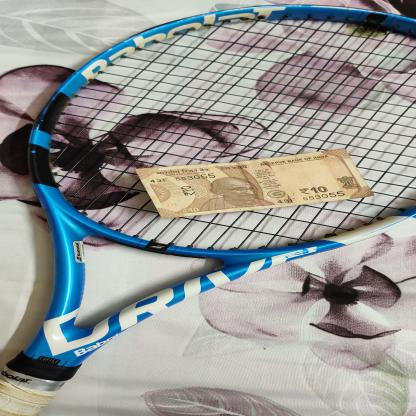New10Front: (135, 147, 377, 219)
